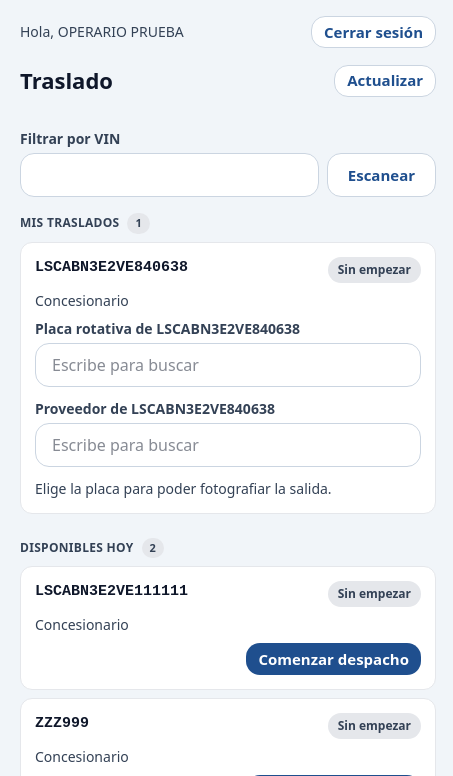
Test: AC3 · el filtro de VIN trabaja sobre lo ya cargado › no distingue mayúsculas ni espacios en los extremos
The width and height of the screenshot is (453, 776).
Expected: the text "ZZZ999" is shown, [35,713,89,736]
Type "  zzz9  " into the search field labelled "Filtrar por VIN" at (169, 175), box [20,153,319,197]
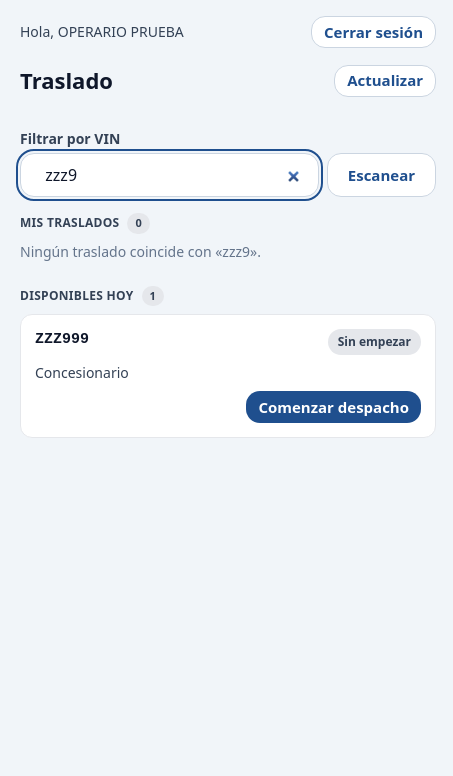
Expected: the text "ZZZ999" is shown, [35,329,89,352]
Expected: the text "LSCABN3E2VE111111" is gone
